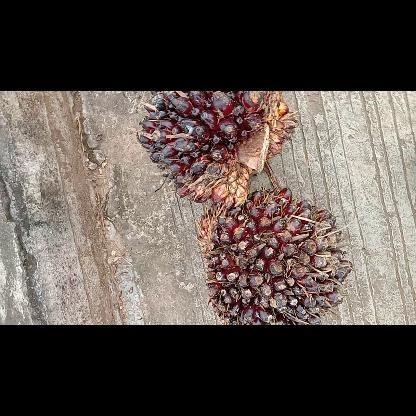TBS mentah: (192, 186, 354, 324), (133, 90, 301, 209)
